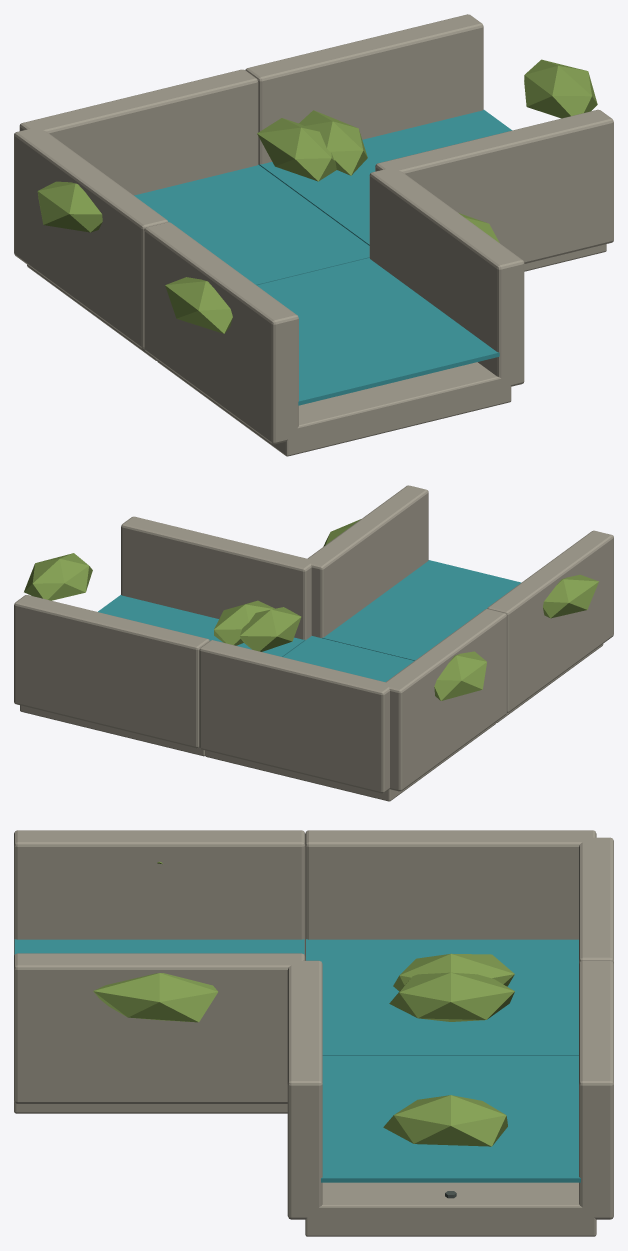
Rendered from Channel_Bend_Reclaimed.glb.
3 views of the same model, one above another, from view 1: azimuth 30°, elevation 25°; view 2: azimuth 150°, elevation 25°; view 3: azimuth 270°, elevation 25° (orthographic). The views are drawn at different scales.
Visible parts, largest first — view 1: Structure, Water, Growth; view 2: Structure, Water, Growth; view 3: Structure, Water, Growth.
Part boxes in pixels (x1,y1,x2,y2): Structure: (14,14,613,456); Water: (134,110,512,405); Growth: (37,59,597,333); Structure: (14,485,613,801); Water: (98,560,521,681); Growth: (24,519,598,700); Structure: (14,830,613,1236); Water: (14,939,580,1182); Growth: (93,861,514,1146).
Bounding box in the file's own units: 4.83 × 1.17 × 4.12.
